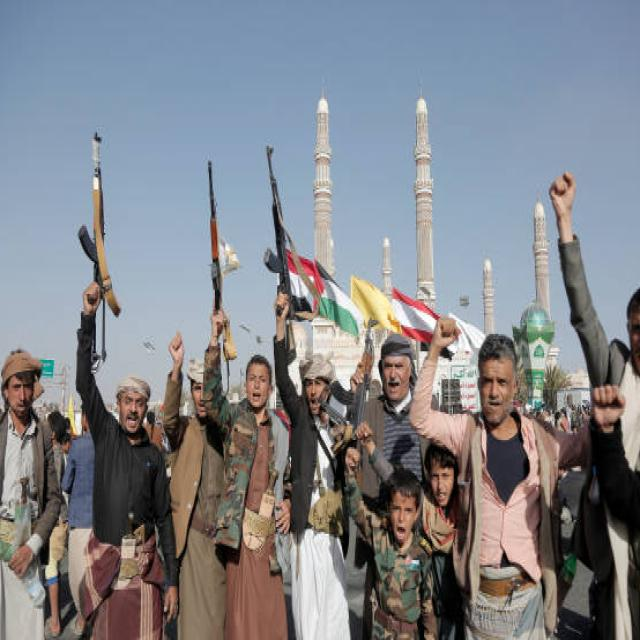civilian: (409, 318, 587, 640), (550, 172, 640, 640), (163, 332, 224, 640), (344, 440, 437, 640), (0, 351, 62, 640)
terrorist: (75, 134, 177, 640), (263, 146, 351, 640), (202, 160, 290, 640), (332, 320, 421, 477)
